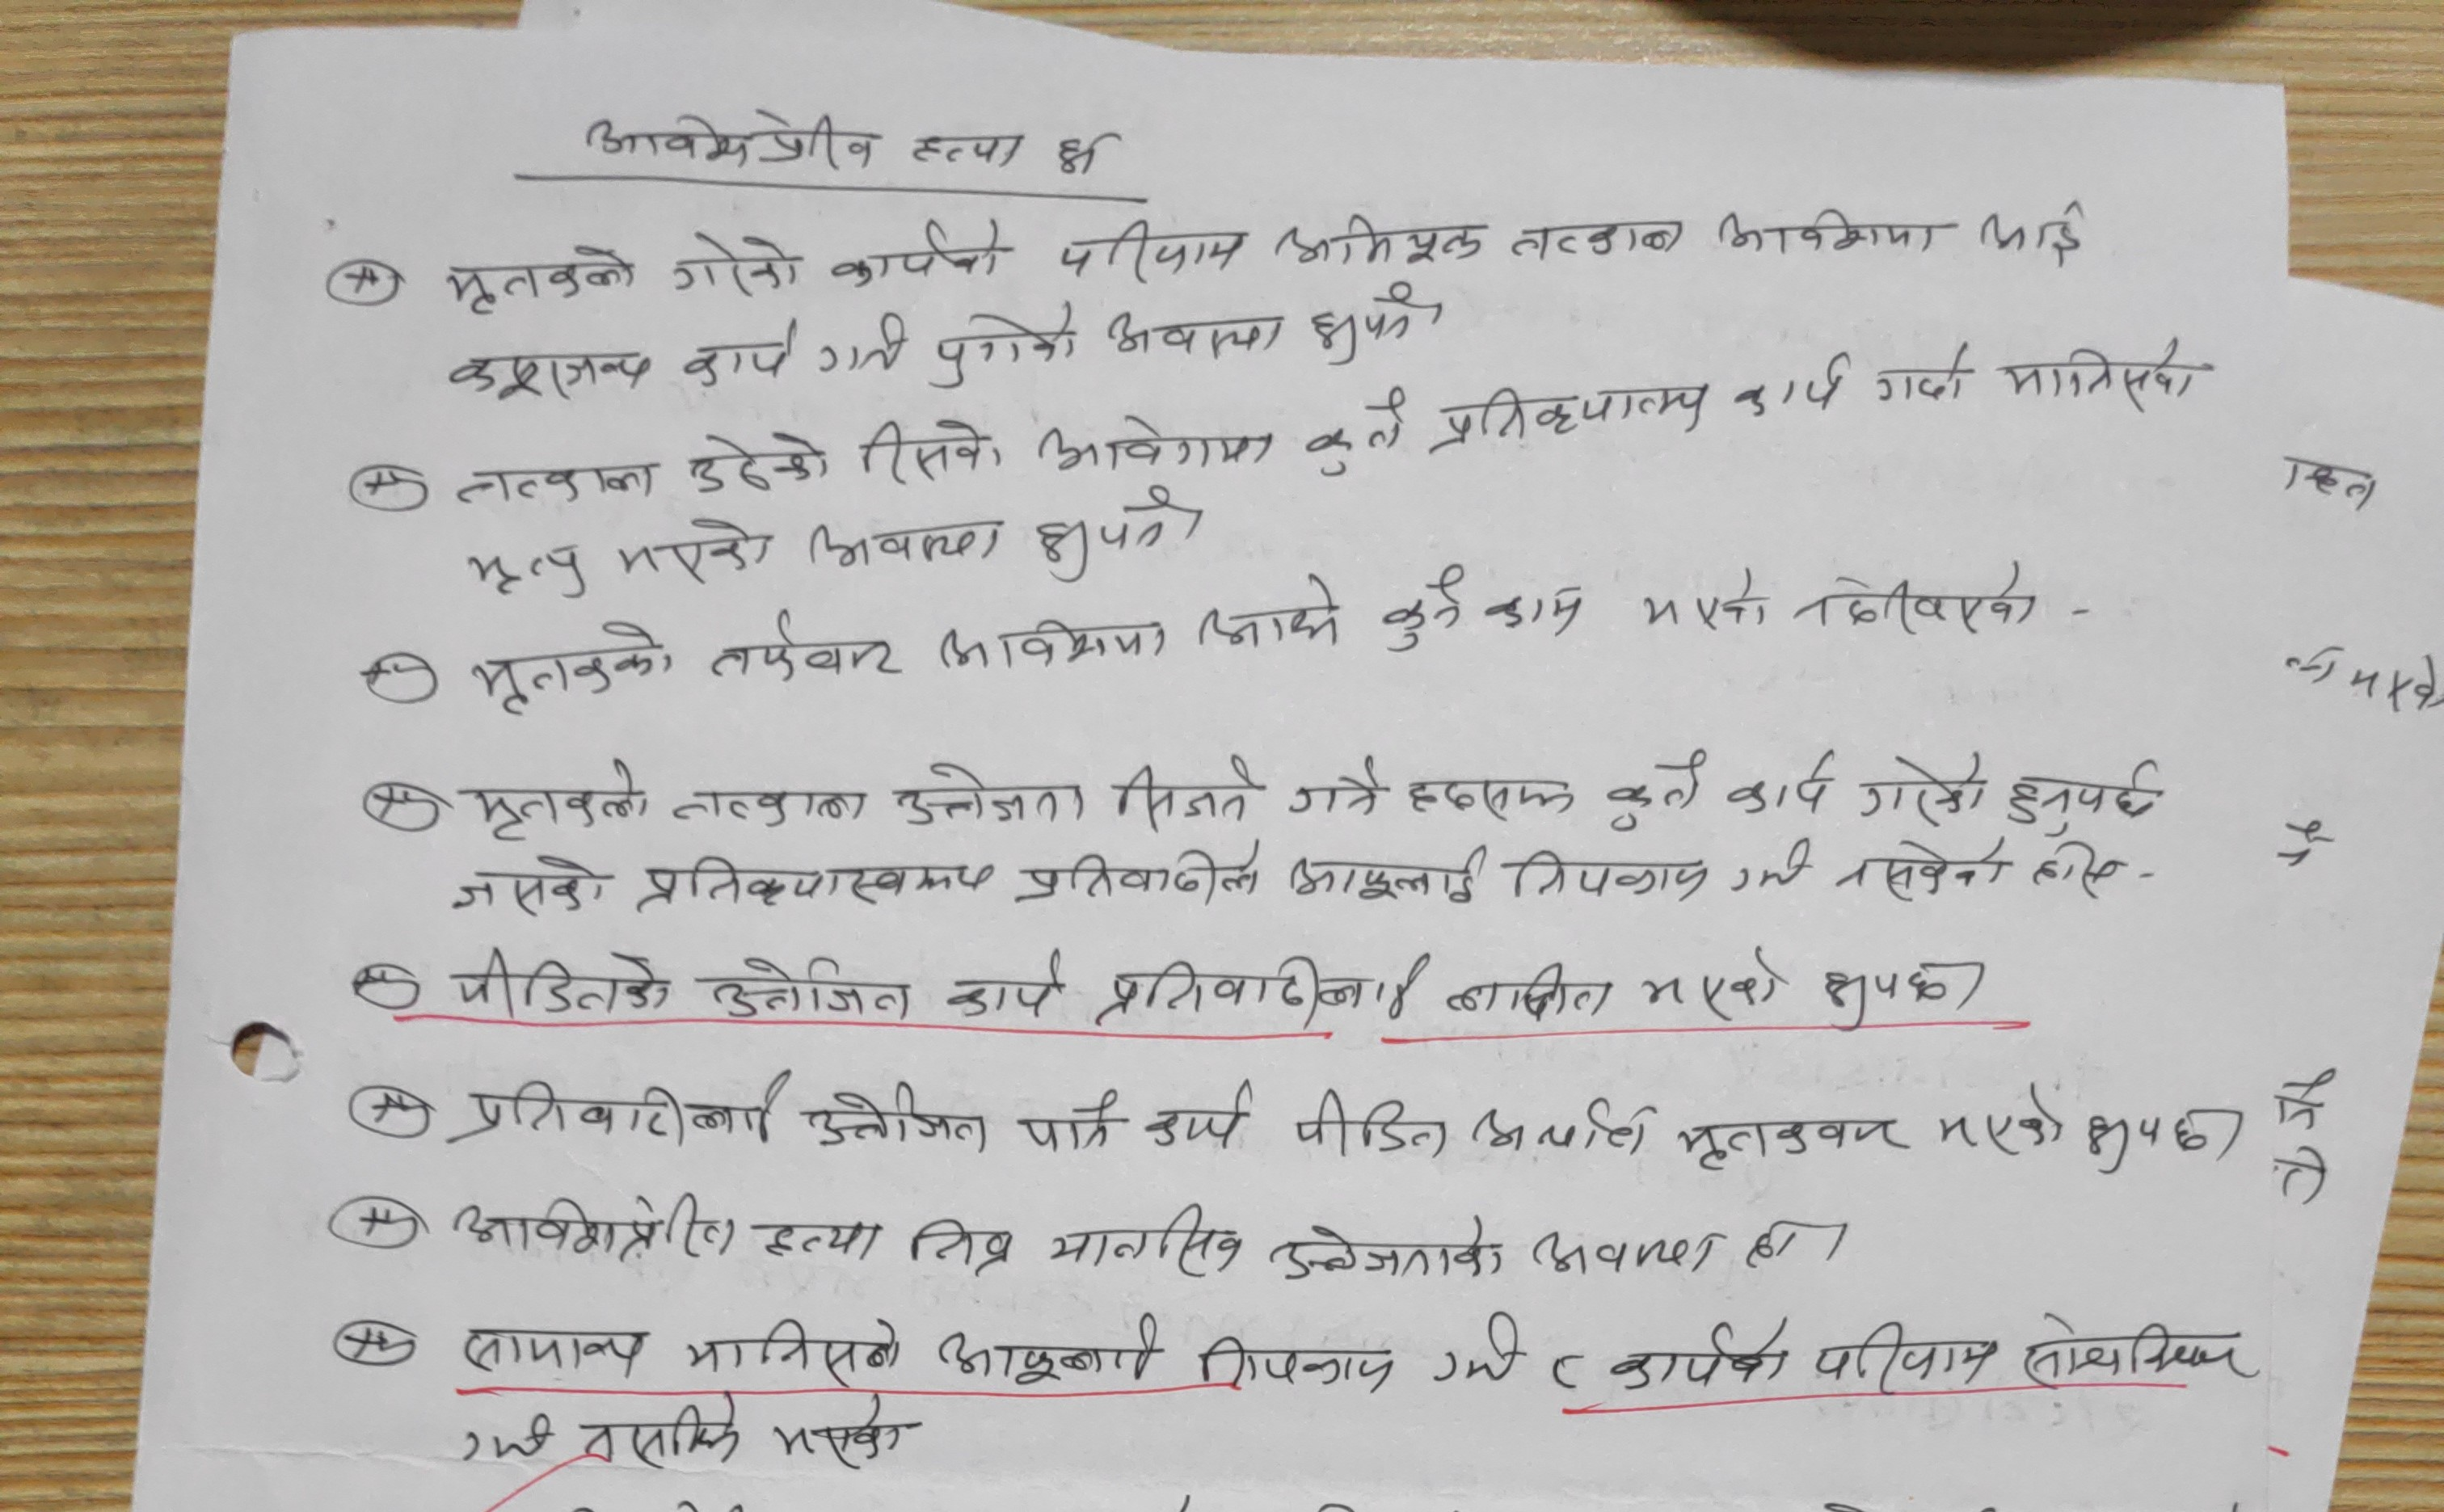text: (454, 1067, 787, 1152), (1096, 952, 1430, 1035), (634, 850, 992, 924), (450, 1186, 738, 1269), (581, 107, 883, 178), (1426, 377, 1709, 450), (466, 620, 679, 714), (936, 1306, 1164, 1392), (2020, 1308, 2252, 1392), (1267, 1208, 1507, 1289), (1800, 560, 2039, 639), (1035, 403, 1285, 477), (1032, 484, 1208, 587), (1047, 1196, 1246, 1283), (1016, 843, 1266, 911), (456, 943, 681, 1018), (1285, 838, 1493, 917), (468, 758, 649, 847), (1601, 1311, 1789, 1397), (677, 1315, 908, 1385), (1672, 1110, 1915, 1175), (704, 953, 920, 1025), (709, 609, 899, 690), (1997, 332, 2203, 405), (1810, 1315, 2004, 1392), (1278, 206, 1491, 276), (892, 759, 1093, 833), (442, 241, 639, 314), (1505, 843, 1711, 913), (801, 1077, 993, 1151), (831, 208, 1006, 288), (1051, 211, 1243, 283), (1191, 574, 1348, 662), (1716, 203, 1945, 262), (609, 512, 780, 590), (922, 306, 1077, 391), (1466, 1088, 1648, 1159), (1189, 1330, 1400, 1392), (1285, 1082, 1442, 1165), (1810, 952, 1994, 1021), (939, 616, 1175, 670), (1999, 763, 2168, 838), (1828, 836, 2011, 904), (1096, 299, 1283, 365), (461, 1316, 648, 1381), (456, 457, 663, 515), (1637, 946, 1796, 1021), (807, 517, 1011, 574), (1929, 1079, 2072, 1158), (449, 852, 616, 918), (677, 428, 836, 498), (1849, 749, 1992, 826), (1440, 962, 1613, 1025), (854, 414, 1013, 482), (443, 351, 656, 402), (1526, 1224, 1723, 1278), (1304, 386, 1412, 484), (1117, 756, 1252, 835), (941, 945, 1067, 1027), (669, 227, 805, 299), (679, 316, 800, 396), (1302, 279, 1418, 363), (1402, 773, 1575, 829), (1637, 567, 1779, 636), (464, 533, 592, 604), (667, 786, 864, 831), (1505, 218, 1692, 265), (1138, 1079, 1255, 1152), (1603, 751, 1704, 835), (1868, 342, 1985, 414), (1725, 754, 1845, 822), (904, 1212, 1021, 1280), (1733, 351, 1847, 421), (1016, 1088, 1119, 1165), (1976, 197, 2097, 262), (815, 307, 915, 382), (1381, 566, 1466, 653), (2029, 836, 2130, 908), (754, 1215, 880, 1273), (1287, 753, 1391, 821), (910, 124, 1030, 173), (1480, 583, 1585, 639)
